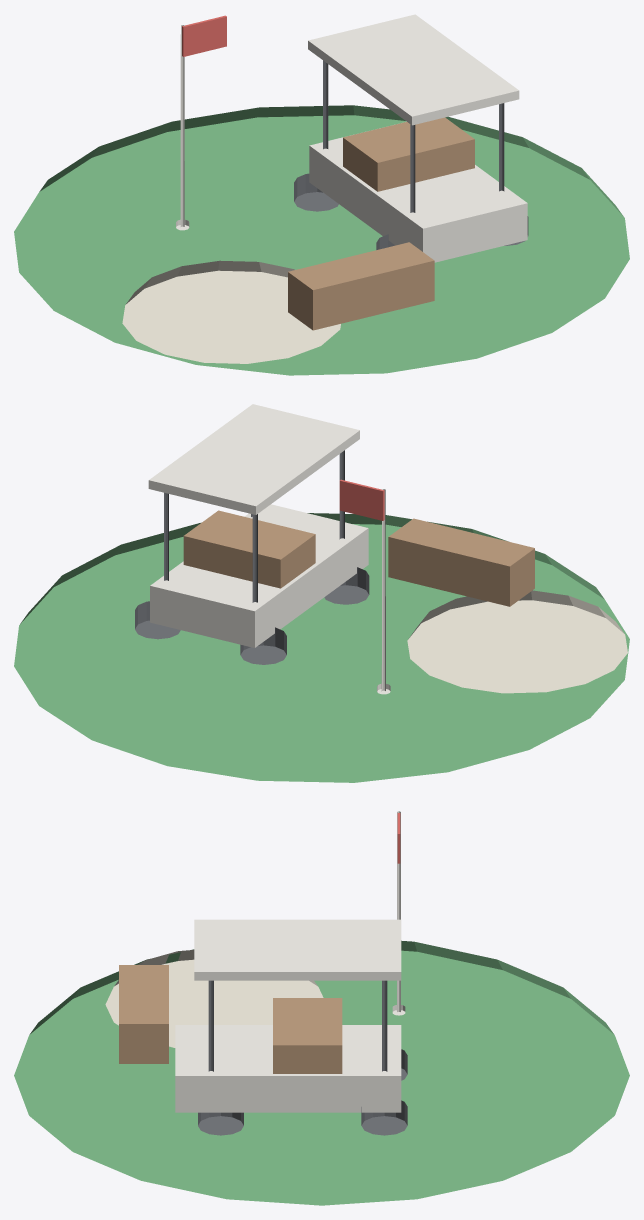
Rendered from prop_23_doi_cu_golf_putting_green_flag_bunker_and_electric_buggy.glb.
3 views of the same model, one above another, from view 1: azimuth 30°, elevation 25°; view 2: azimuth 150°, elevation 25°; view 3: azimuth 270°, elevation 25° (orthographic).
Visible parts, largest first — view 1: prop_23_doi_cu_golf_putting_green_flag_bunker_and_electric_b; view 2: prop_23_doi_cu_golf_putting_green_flag_bunker_and_electric_b; view 3: prop_23_doi_cu_golf_putting_green_flag_bunker_and_electric_b.
Boxes of the visible parts, x1,y1,x2,y2 form: prop_23_doi_cu_golf_putting_green_flag_bunker_and_electric_b: [14, 14, 629, 375]; prop_23_doi_cu_golf_putting_green_flag_bunker_and_electric_b: [14, 404, 629, 782]; prop_23_doi_cu_golf_putting_green_flag_bunker_and_electric_b: [14, 811, 629, 1205].
Bounding box in the file's own units: 6.4 × 2.46 × 6.4.
